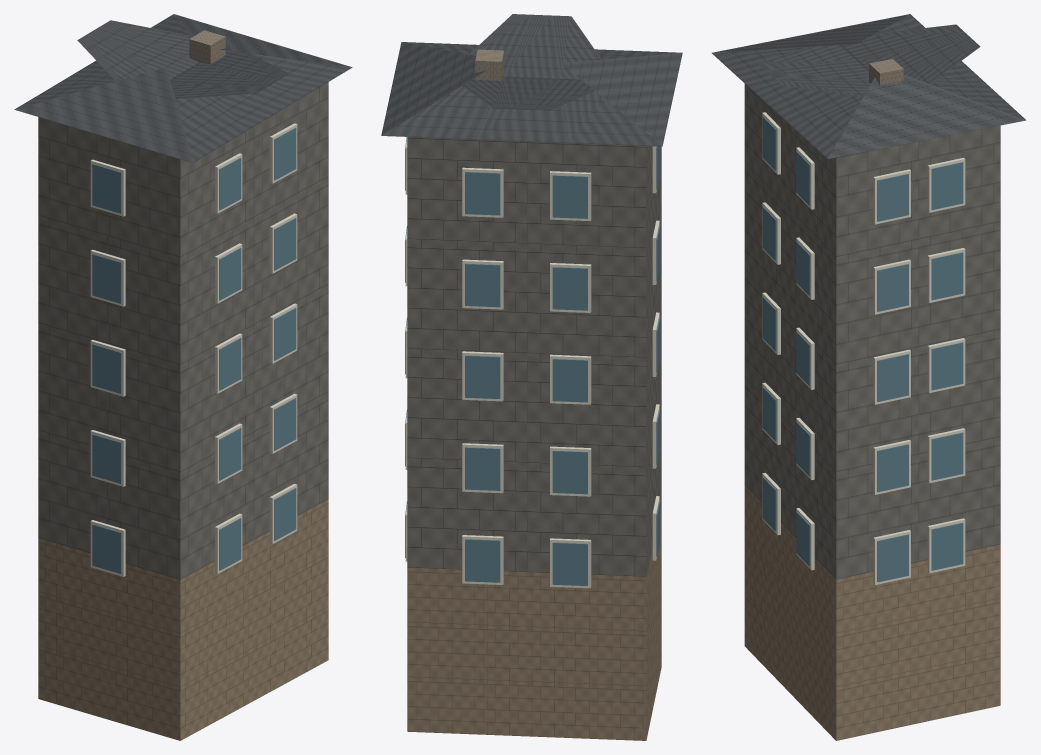
File: core_0040.gltf
The picture shows the model from 3 angles, left to right: view 1: azimuth 30°, elevation 25°; view 2: azimuth 150°, elevation 25°; view 3: azimuth 270°, elevation 25°; orthographic projection.
Parts seen in each view (by area): view 1: core_0040; view 2: core_0040; view 3: core_0040.
Part boxes in pixels (<box>): core_0040: <box>14,14,352,740</box>; core_0040: <box>381,14,682,740</box>; core_0040: <box>712,14,1026,740</box>.
Bounding box in the file's own units: 9.85 × 19.85 × 9.04.
Materials: 6 (6 with a texture image).
